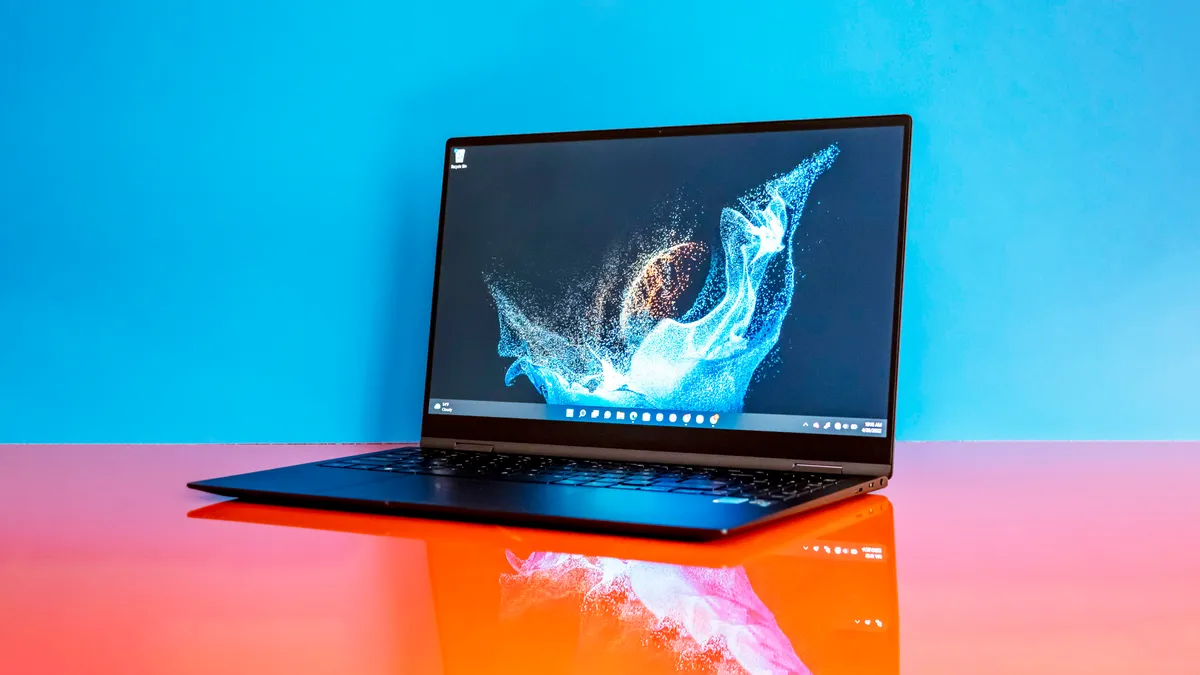laptop: (187, 111, 913, 539)
